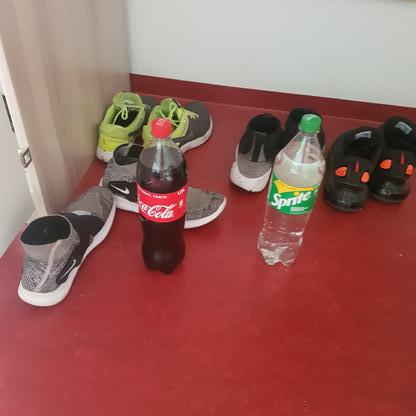coca-cola: (135, 116, 190, 278)
